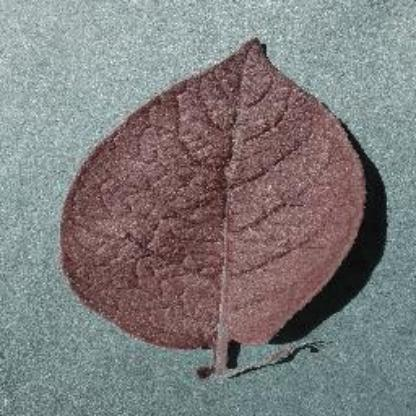Healthy-plant: (61, 25, 376, 354)
